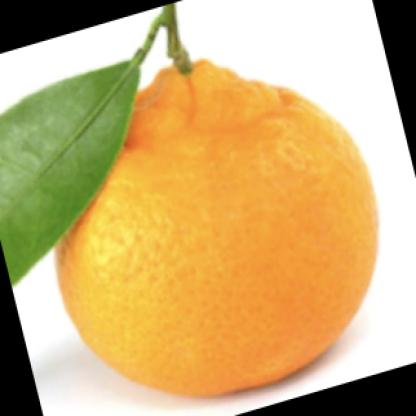fresh: (55, 63, 380, 396)
